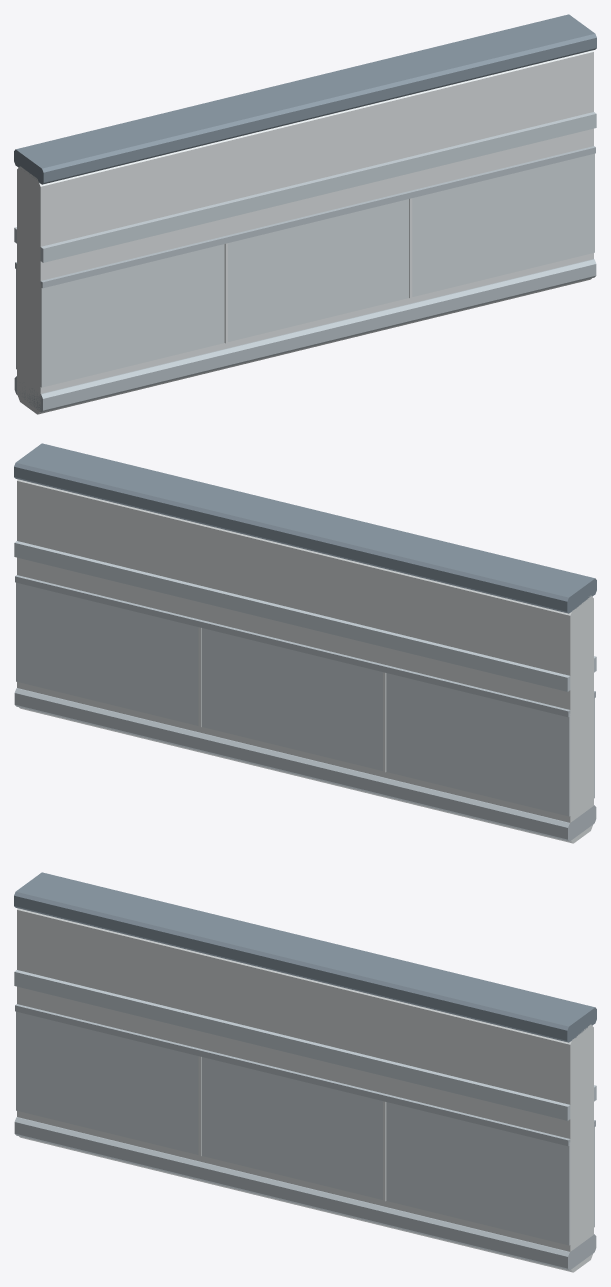
The model's file is wall_hospital_ward.glb.
3 renders of one model, top to bottom at view 1: azimuth 30°, elevation 25°; view 2: azimuth 150°, elevation 25°; view 3: azimuth 330°, elevation 25°, orthographic.
Parts seen in each view (by area): view 1: Part_001, Part_005, Part_002, Part_003, Part_013, Part_011; view 2: Part_004, Part_001, Part_002, Part_003, Part_012, Part_010; view 3: Part_005, Part_001, Part_002, Part_003, Part_013, Part_011.
Boxes of the visible parts, <box> form: Part_001: <box>17,50,593,414</box>; Part_005: <box>40,153,594,387</box>; Part_002: <box>14,14,596,184</box>; Part_003: <box>14,259,596,412</box>; Part_013: <box>40,112,596,262</box>; Part_011: <box>40,146,595,288</box>; Part_004: <box>16,582,570,816</box>; Part_001: <box>17,479,593,843</box>; Part_002: <box>14,443,596,613</box>; Part_003: <box>14,688,596,841</box>; Part_012: <box>14,541,570,691</box>; Part_010: <box>15,575,570,717</box>; Part_005: <box>16,1011,570,1245</box>; Part_001: <box>17,908,593,1272</box>; Part_002: <box>14,872,596,1042</box>; Part_003: <box>14,1117,596,1270</box>; Part_013: <box>14,970,570,1120</box>; Part_011: <box>15,1004,570,1146</box>.
Size of the model in its own units: 2.7 by 1.16 by 0.25.
